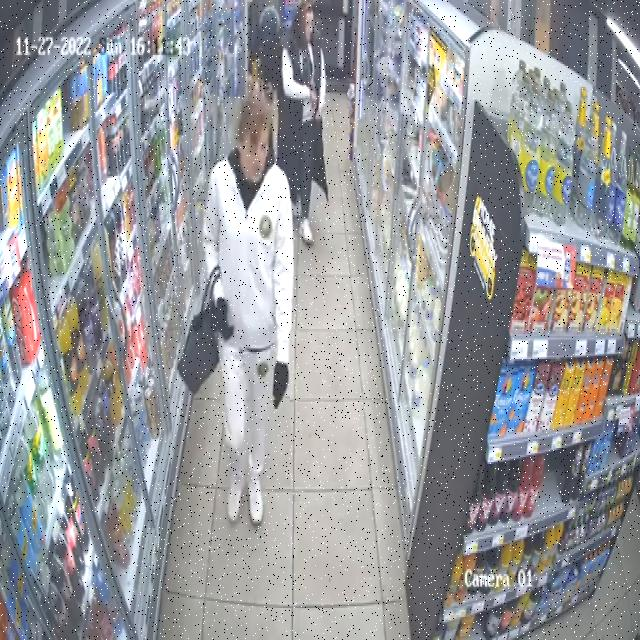bags: (177, 272, 218, 391)
hands: (215, 297, 233, 340), (273, 361, 288, 407)
person: (202, 82, 293, 524), (277, 0, 328, 244)
